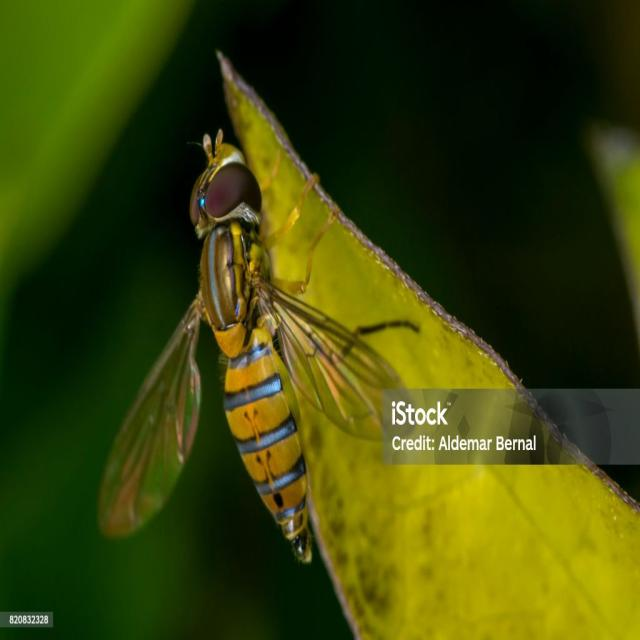hoverfly: (96, 123, 415, 568)
